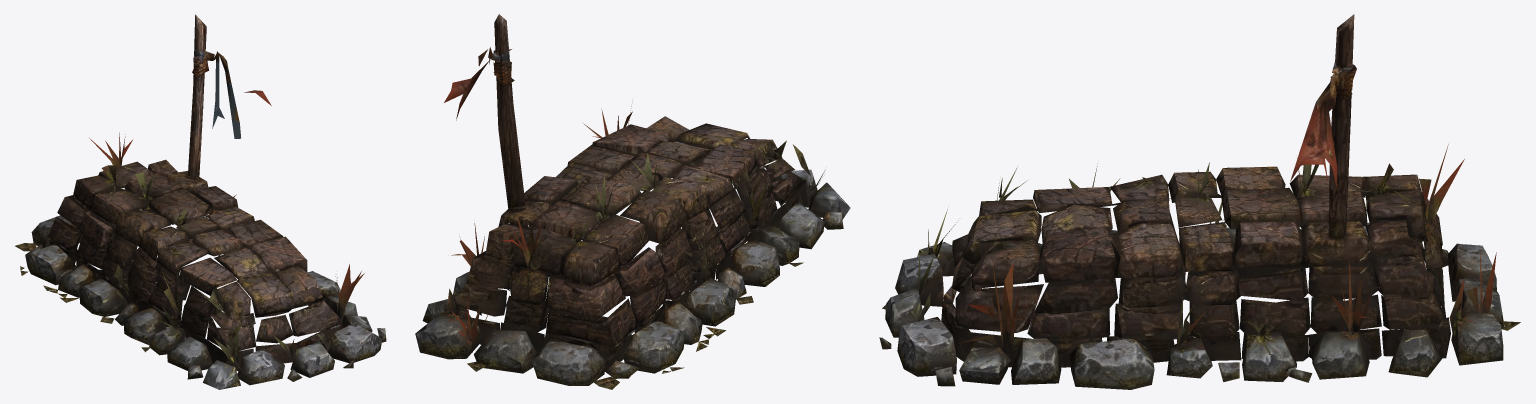
File: act1_kit_v1_bog_grave.glb
3 renders of one model, left to right at view 1: azimuth 30°, elevation 25°; view 2: azimuth 150°, elevation 25°; view 3: azimuth 270°, elevation 25°, orthographic. The views are drawn at different scales.
Visible parts, largest first — view 1: A21_6_bog_grave; view 2: A21_6_bog_grave; view 3: A21_6_bog_grave.
Part boxes in pixels (<box>): A21_6_bog_grave: <box>15,14,386,389</box>; A21_6_bog_grave: <box>415,14,850,389</box>; A21_6_bog_grave: <box>879,14,1520,389</box>.
Size of the model in its own units: 0.555 by 0.5804 by 0.9893.
Materials: 1 (1 with a texture image).
